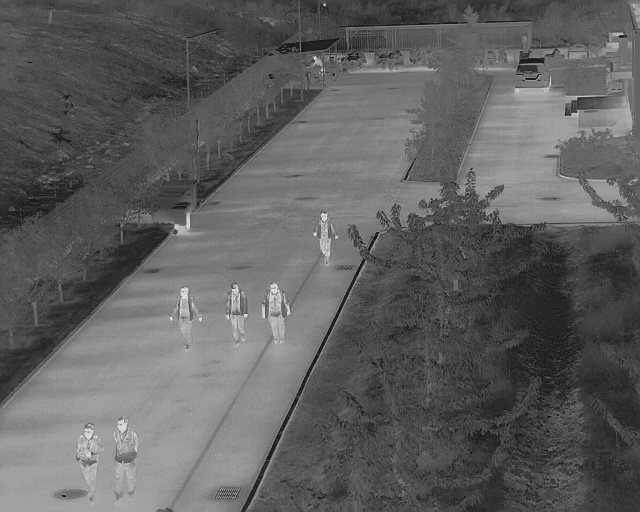person: (109, 415, 140, 502), (168, 285, 206, 348), (73, 419, 101, 502), (259, 280, 294, 346), (224, 282, 249, 350), (310, 211, 338, 266)
vehicle: (509, 57, 555, 94)
